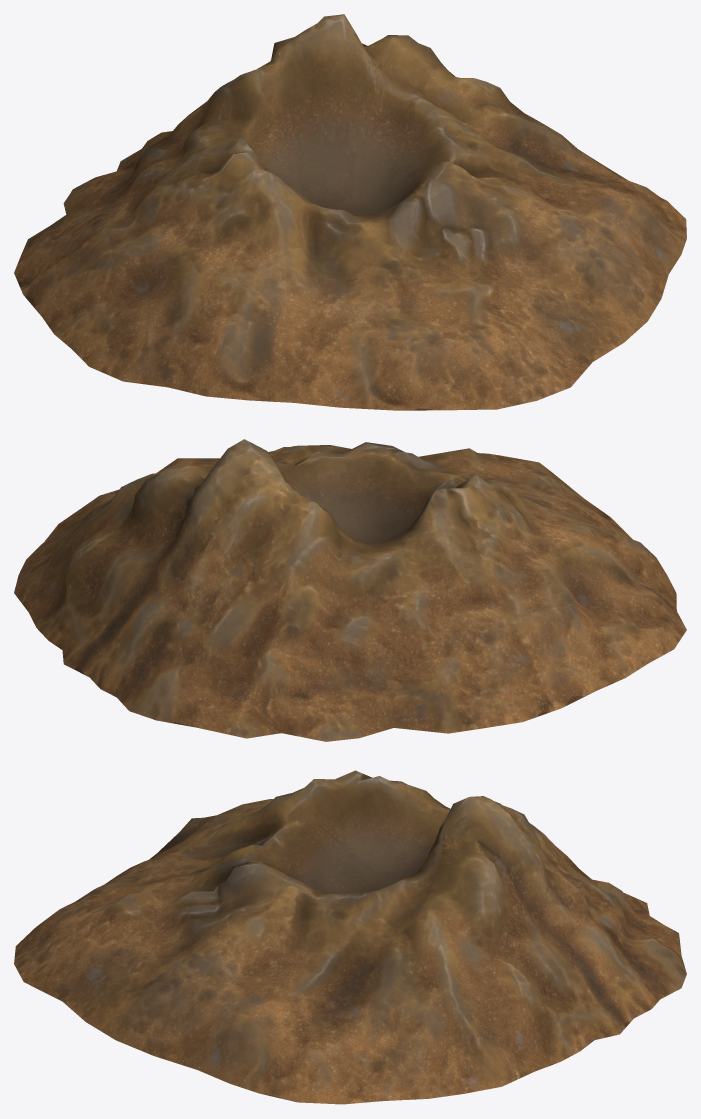
Rendered from BugNest.glb.
The picture shows the model from 3 angles, top to bottom: view 1: azimuth 30°, elevation 25°; view 2: azimuth 150°, elevation 25°; view 3: azimuth 270°, elevation 25°; orthographic projection. The views are drawn at different scales.
Parts seen in each view (by area): view 1: SM_Gameplay_RaptorNest_A_LOD0.mo_0_4; view 2: SM_Gameplay_RaptorNest_A_LOD0.mo_0_4; view 3: SM_Gameplay_RaptorNest_A_LOD0.mo_0_4.
Part boxes in pixels (x1,y1,x2,y2): SM_Gameplay_RaptorNest_A_LOD0.mo_0_4: (14, 14, 686, 410); SM_Gameplay_RaptorNest_A_LOD0.mo_0_4: (14, 439, 686, 741); SM_Gameplay_RaptorNest_A_LOD0.mo_0_4: (14, 770, 686, 1104).
Size of the model in its own units: 2.1 by 0.6602 by 2.14.
1 material, 1 textured.
